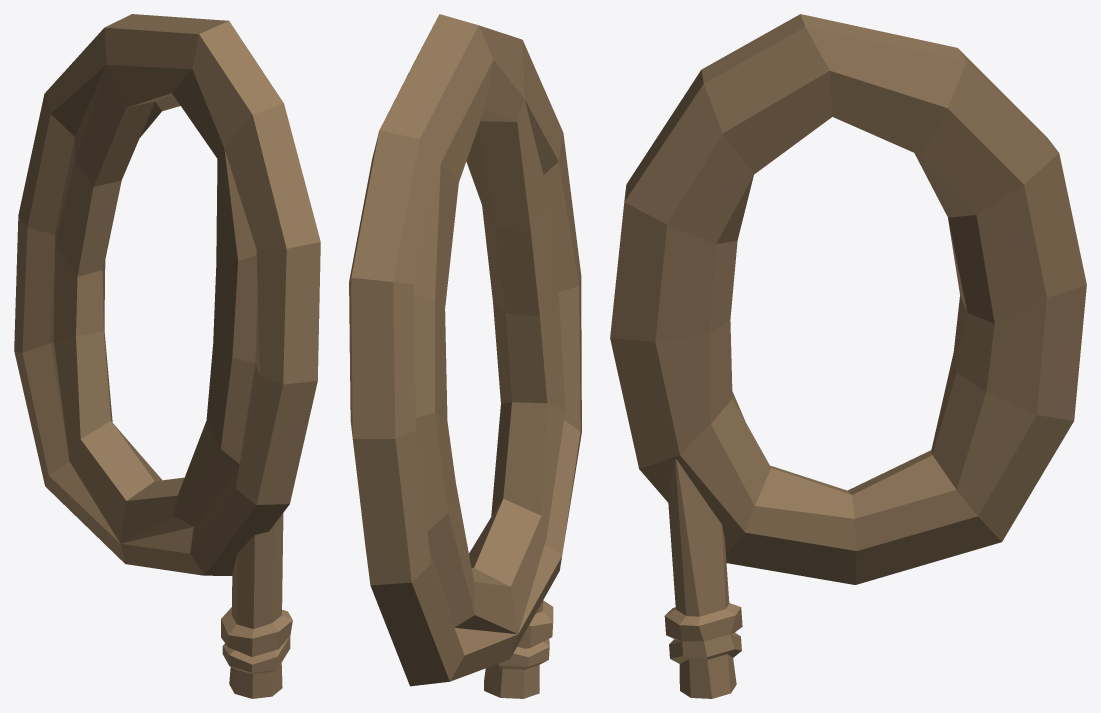
File: Chr_HipsAttachment_04_Static.fbx
3 renders of one model, left to right at view 1: azimuth 30°, elevation 25°; view 2: azimuth 150°, elevation 25°; view 3: azimuth 270°, elevation 25°, orthographic. The views are drawn at different scales.
Visible parts, largest first — view 1: Chr_HipsAttachment_04_Static; view 2: Chr_HipsAttachment_04_Static; view 3: Chr_HipsAttachment_04_Static.
Boxes of the visible parts, x1=… form: Chr_HipsAttachment_04_Static: x1=14, y1=14, x2=320, y2=698; Chr_HipsAttachment_04_Static: x1=349, y1=14, x2=581, y2=698; Chr_HipsAttachment_04_Static: x1=610, y1=14, x2=1086, y2=698.
Bounding box in the file's own units: 0.0687 × 0.346 × 0.2224.
